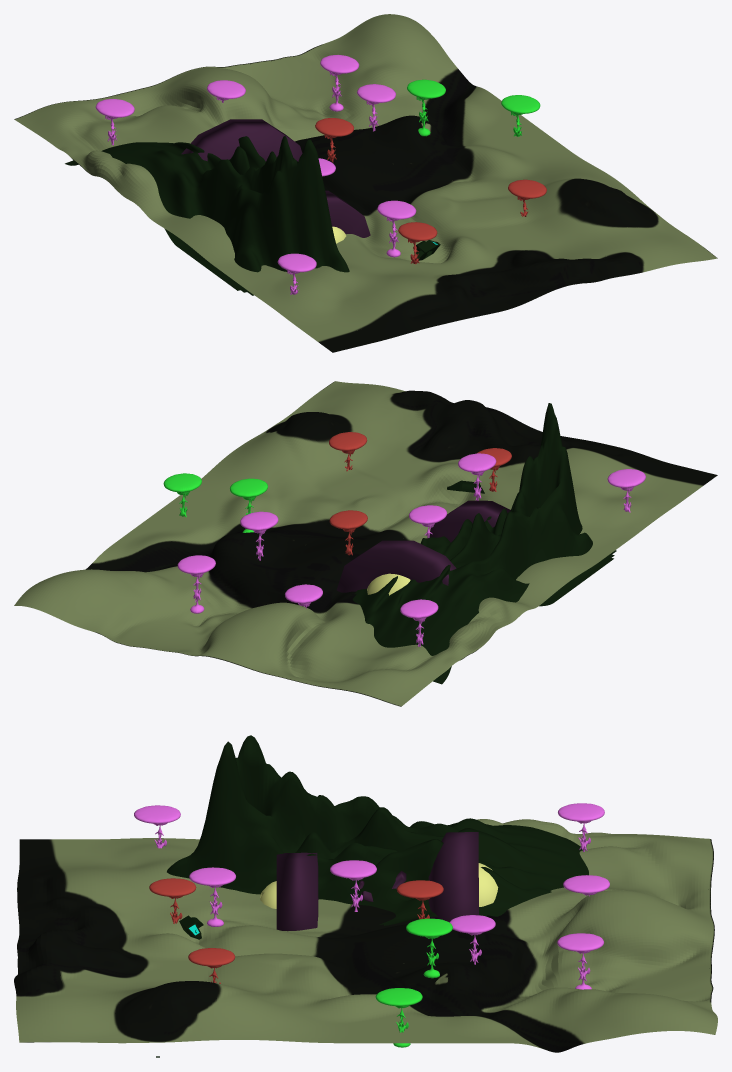
File: Nivel_1.glb
3 renders of one model, top to bottom at view 1: azimuth 30°, elevation 25°; view 2: azimuth 150°, elevation 25°; view 3: azimuth 270°, elevation 25°, orthographic. The views are drawn at different scales.
Parts seen in each view (by area): view 1: Plano, Landscape, Cilindro.004, Cilindro; view 2: Plano, Landscape, Cilindro.004, Cilindro; view 3: Plano, Landscape, Cilindro.004, Cilindro.
Boxes of the visible parts, bbox=[...] form: Plano: bbox=[14, 14, 717, 352]; Landscape: bbox=[65, 136, 349, 295]; Cilindro.004: bbox=[95, 54, 546, 294]; Cilindro: bbox=[181, 119, 370, 243]; Plano: bbox=[14, 381, 717, 706]; Landscape: bbox=[352, 403, 616, 684]; Cilindro.004: bbox=[163, 432, 645, 646]; Cilindro: bbox=[336, 500, 510, 595]; Plano: bbox=[14, 819, 717, 1052]; Landscape: bbox=[156, 735, 588, 1057]; Cilindro.004: bbox=[134, 803, 609, 1047]; Cilindro: bbox=[260, 832, 498, 931].
Bounding box in the file's own units: 36.37 × 16.5 × 51.95.
8 materials, 1 textured.
